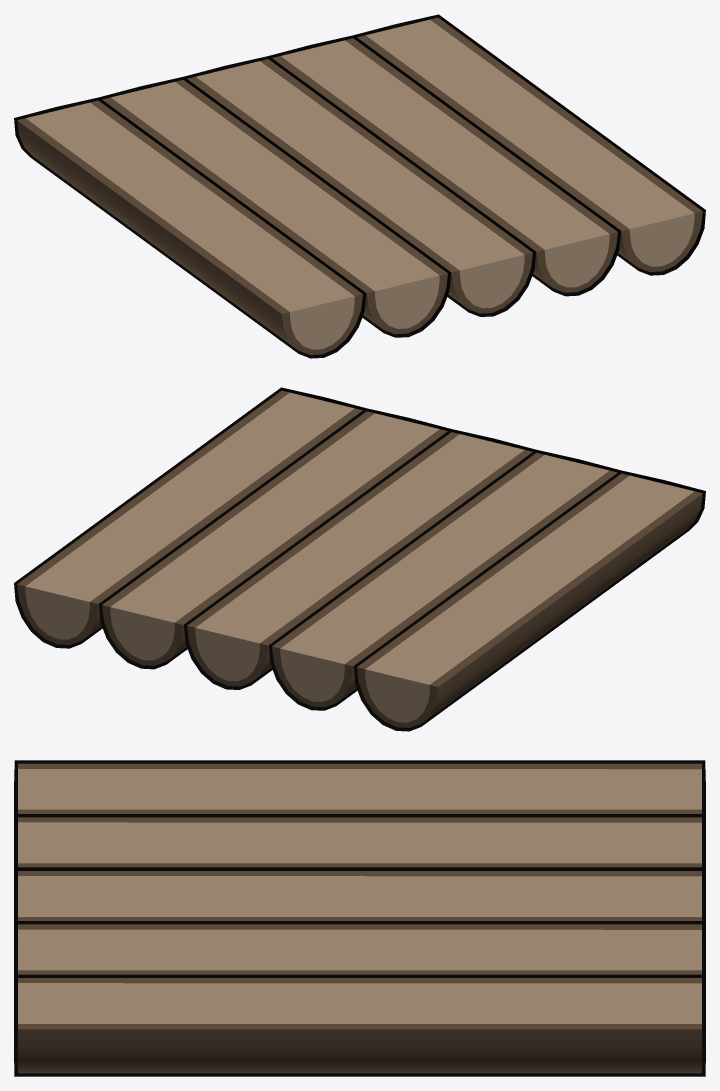
File: Raft.fbx
3 renders of one model, top to bottom at view 1: azimuth 30°, elevation 25°; view 2: azimuth 150°, elevation 25°; view 3: azimuth 270°, elevation 25°, orthographic. The views are drawn at different scales.
Parts seen in each view (by area): view 1: polySurface429; view 2: polySurface429; view 3: polySurface429.
Part boxes in pixels (<box>): polySurface429: <box>14,14,705,358</box>; polySurface429: <box>14,387,705,731</box>; polySurface429: <box>14,760,705,1076</box>.
Bounding box in the file's own units: 4.93 × 0.6089 × 5.38.
